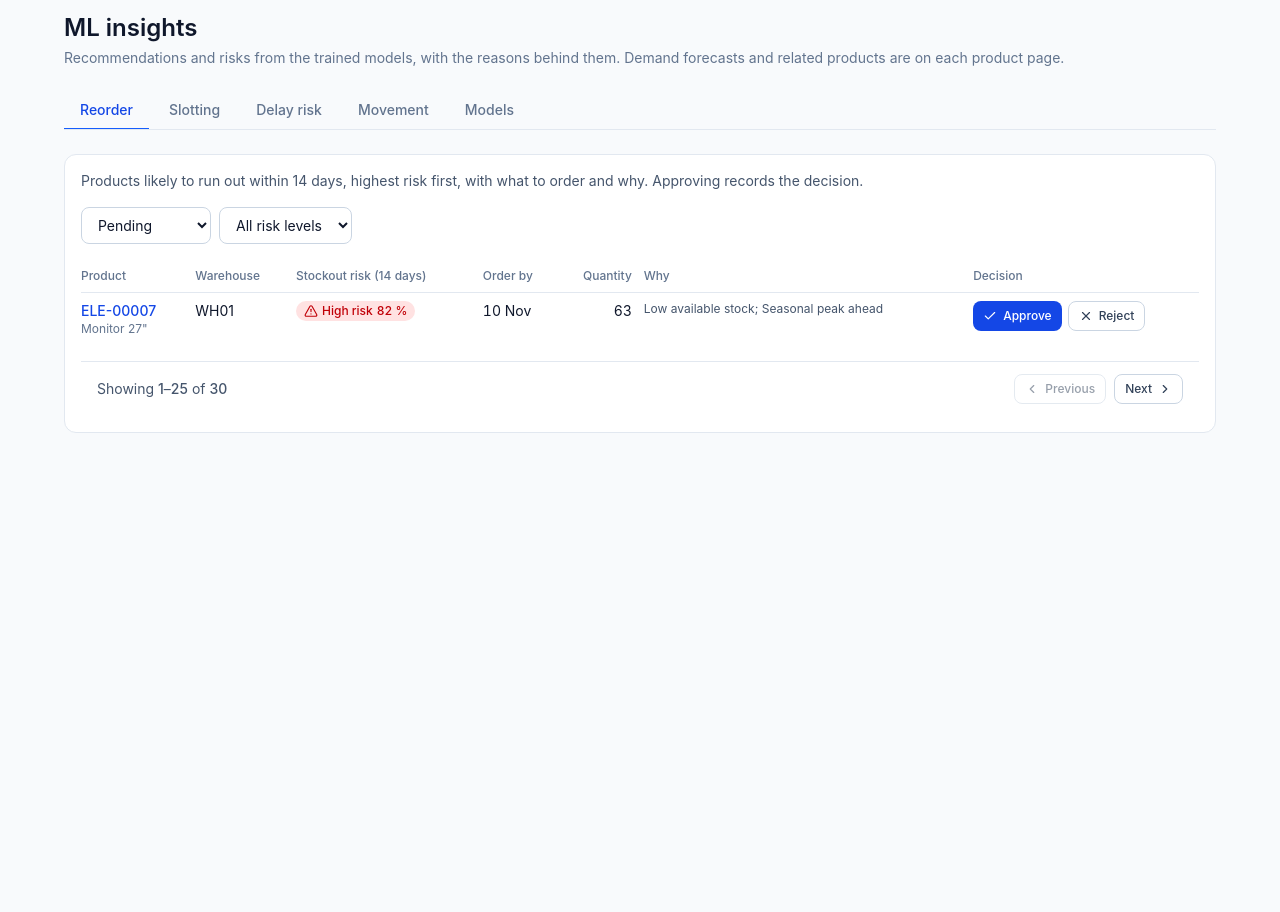
MLInsightsPage › opens on pending reorder recommendations; managers approve them
The image size is (1280, 912).
Expected: the link "ELE-00007" is shown, [81, 302, 156, 319]
Expected: the text "Showing 1–25 of 30" is shown, [97, 379, 227, 399]
Click the button with aria-label "Approve reorder of ELE-00007 for WH01". click: [1017, 316]
box: [973, 301, 1062, 331]
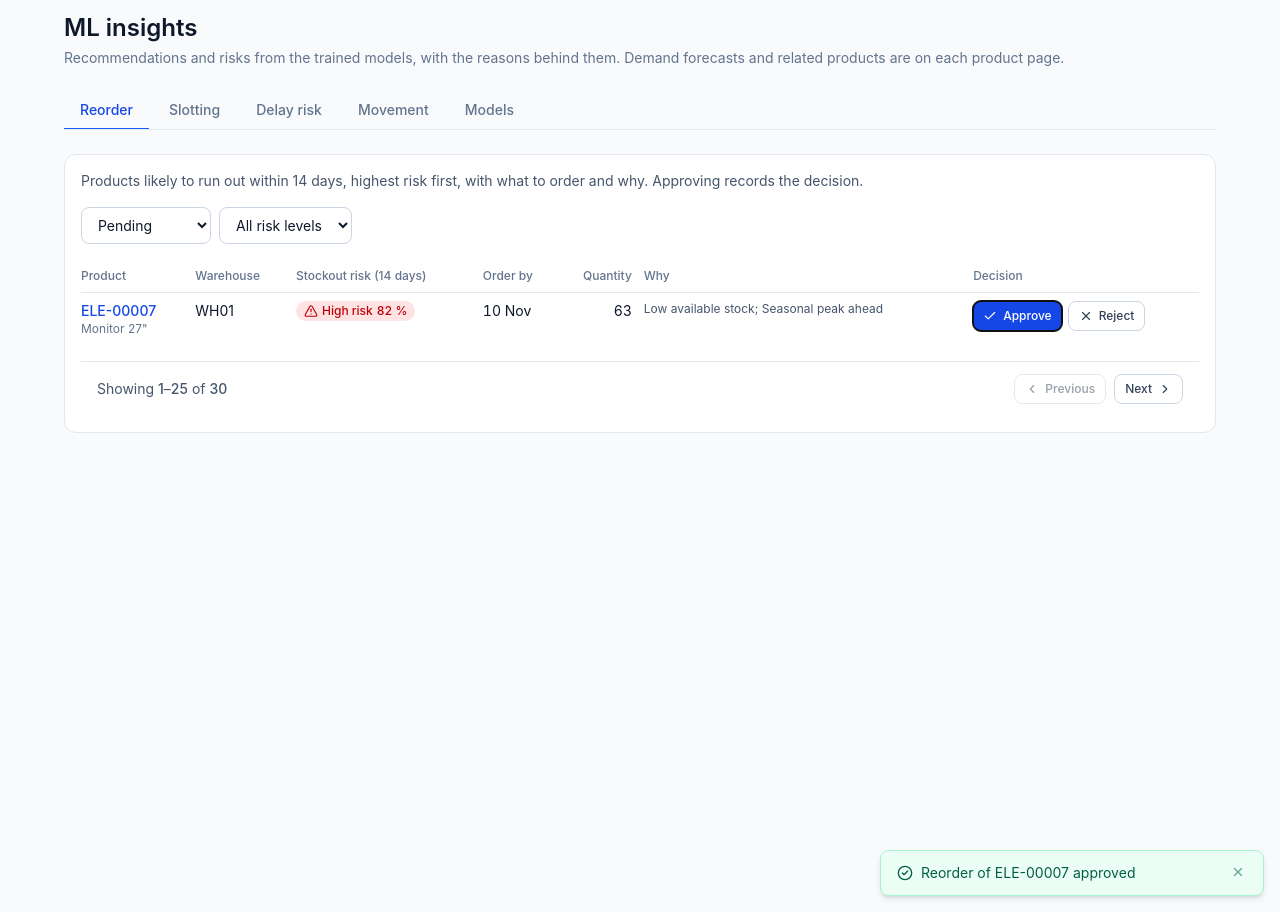
Expected: the text "Reorder of ELE-00007 approved" is shown, [921, 864, 1136, 881]
